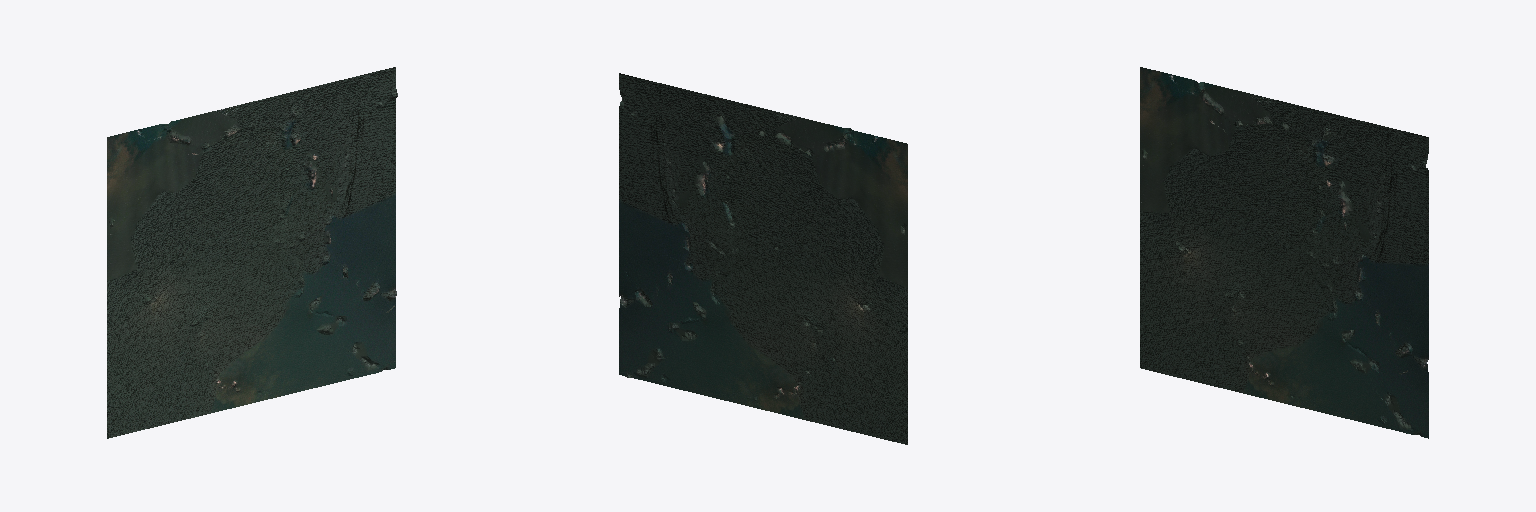
3 renders of one model, left to right at view 1: azimuth 30°, elevation 25°; view 2: azimuth 150°, elevation 25°; view 3: azimuth 330°, elevation 25°, orthographic.
Size of the model in its own units: 252 by 252 by 17.91.
Materials: 2 (1 with a texture image).